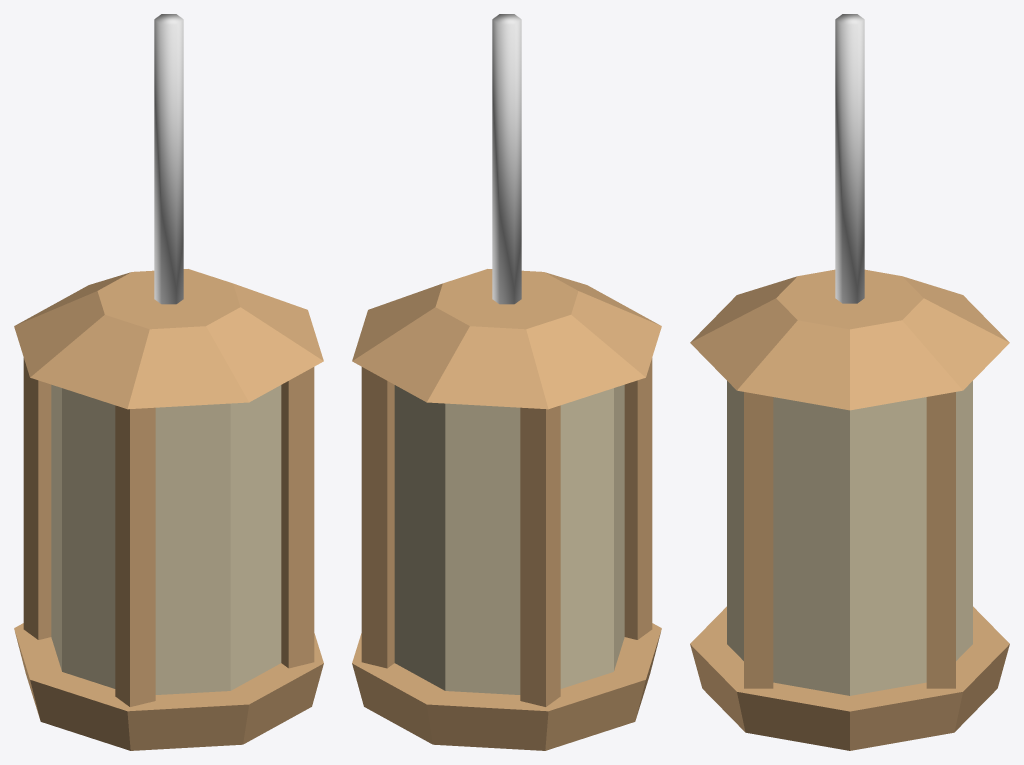
The model's file is palm_lantern_v0.glb.
3 renders of one model, left to right at view 1: azimuth 30°, elevation 25°; view 2: azimuth 150°, elevation 25°; view 3: azimuth 270°, elevation 25°, orthographic.
Visible parts, largest first — view 1: palm_lantern_v0; view 2: palm_lantern_v0; view 3: palm_lantern_v0.
Boxes of the visible parts, bbox=[...] form: palm_lantern_v0: bbox=[14, 14, 323, 750]; palm_lantern_v0: bbox=[352, 14, 661, 750]; palm_lantern_v0: bbox=[690, 14, 1009, 750].
Size of the model in its own units: 0.26 by 0.6 by 0.26.
